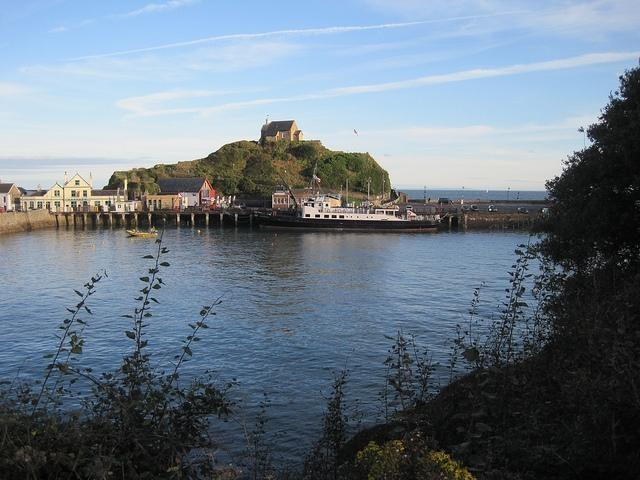car: (460, 205, 529, 214), (198, 205, 210, 212), (438, 198, 452, 204), (488, 206, 498, 212), (404, 205, 414, 211), (471, 204, 478, 211), (542, 208, 550, 214)
